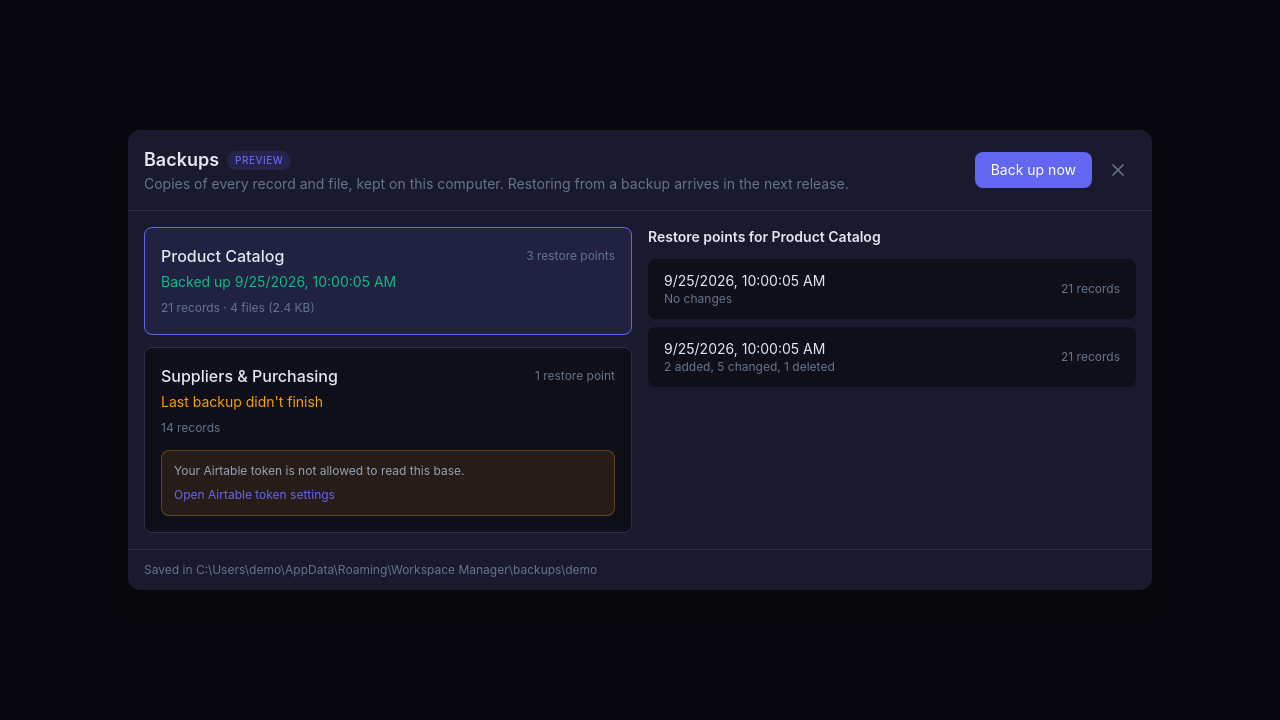
BackupsPanel › runs a backup and reloads the list
Step 1. Click the button "Back up now" → [1033, 170], box [975, 152, 1092, 188]
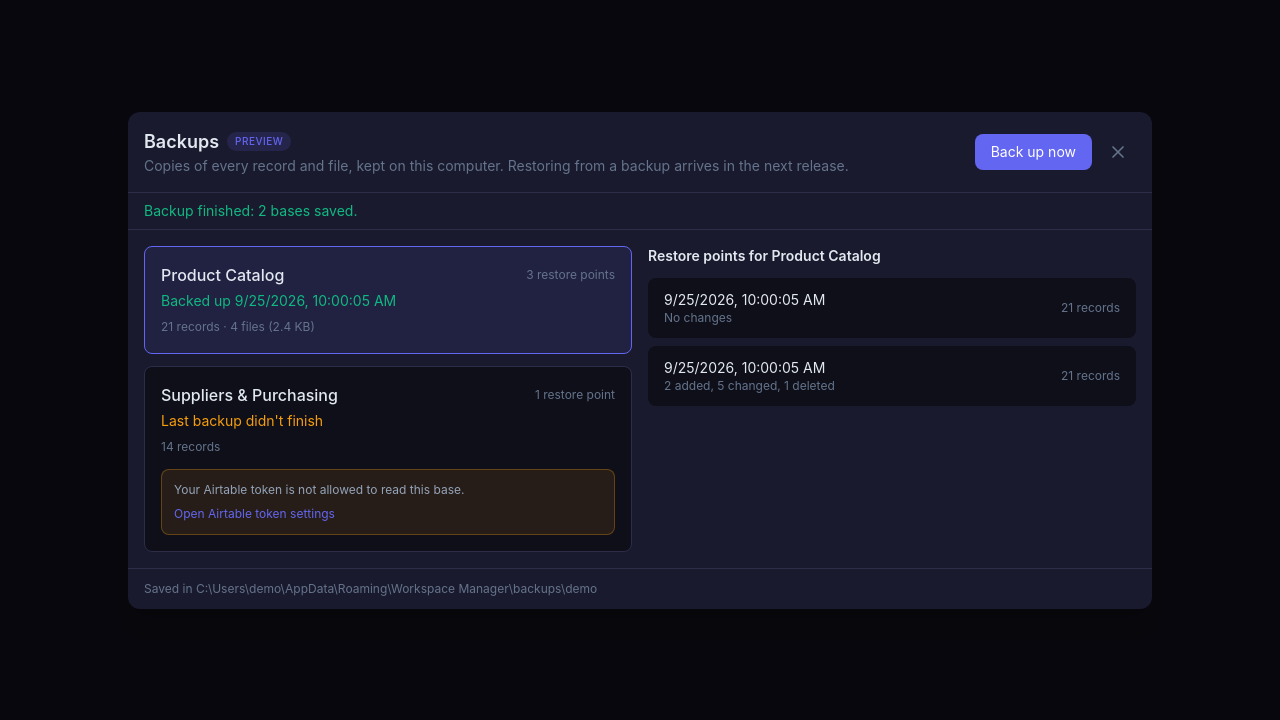
Check: the text "Backup finished: 2 bases saved." is shown, box [144, 202, 357, 218]
